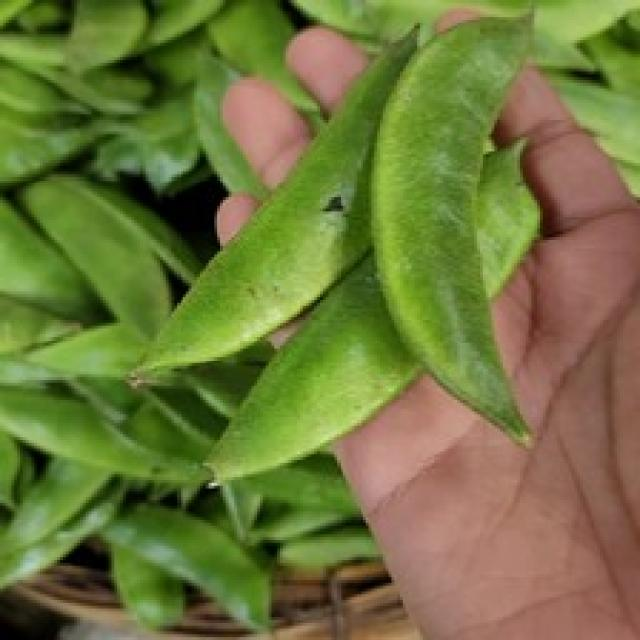Bean: (129, 3, 540, 483)
